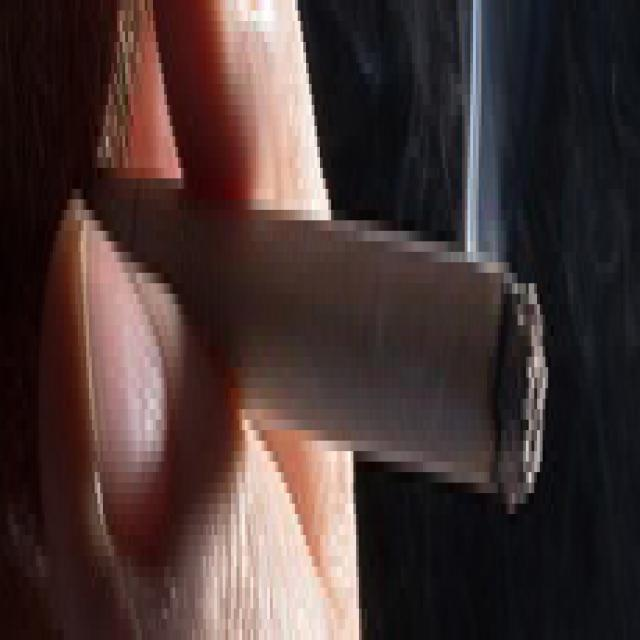smoking: (69, 167, 547, 507)
